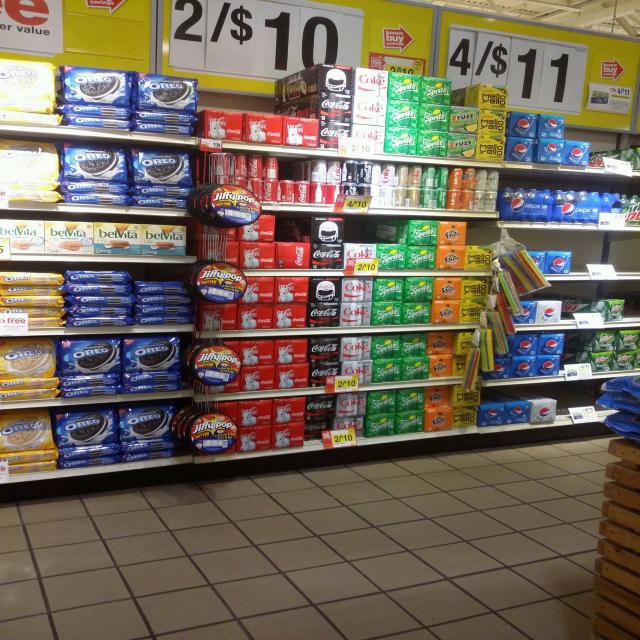void: (576, 242, 638, 274)
